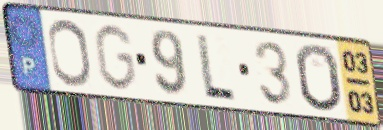3: (252, 40, 294, 107)
9: (150, 27, 189, 99)
G: (91, 22, 138, 93)
L: (194, 31, 238, 104)
O: (293, 42, 345, 115), (45, 17, 95, 89)
